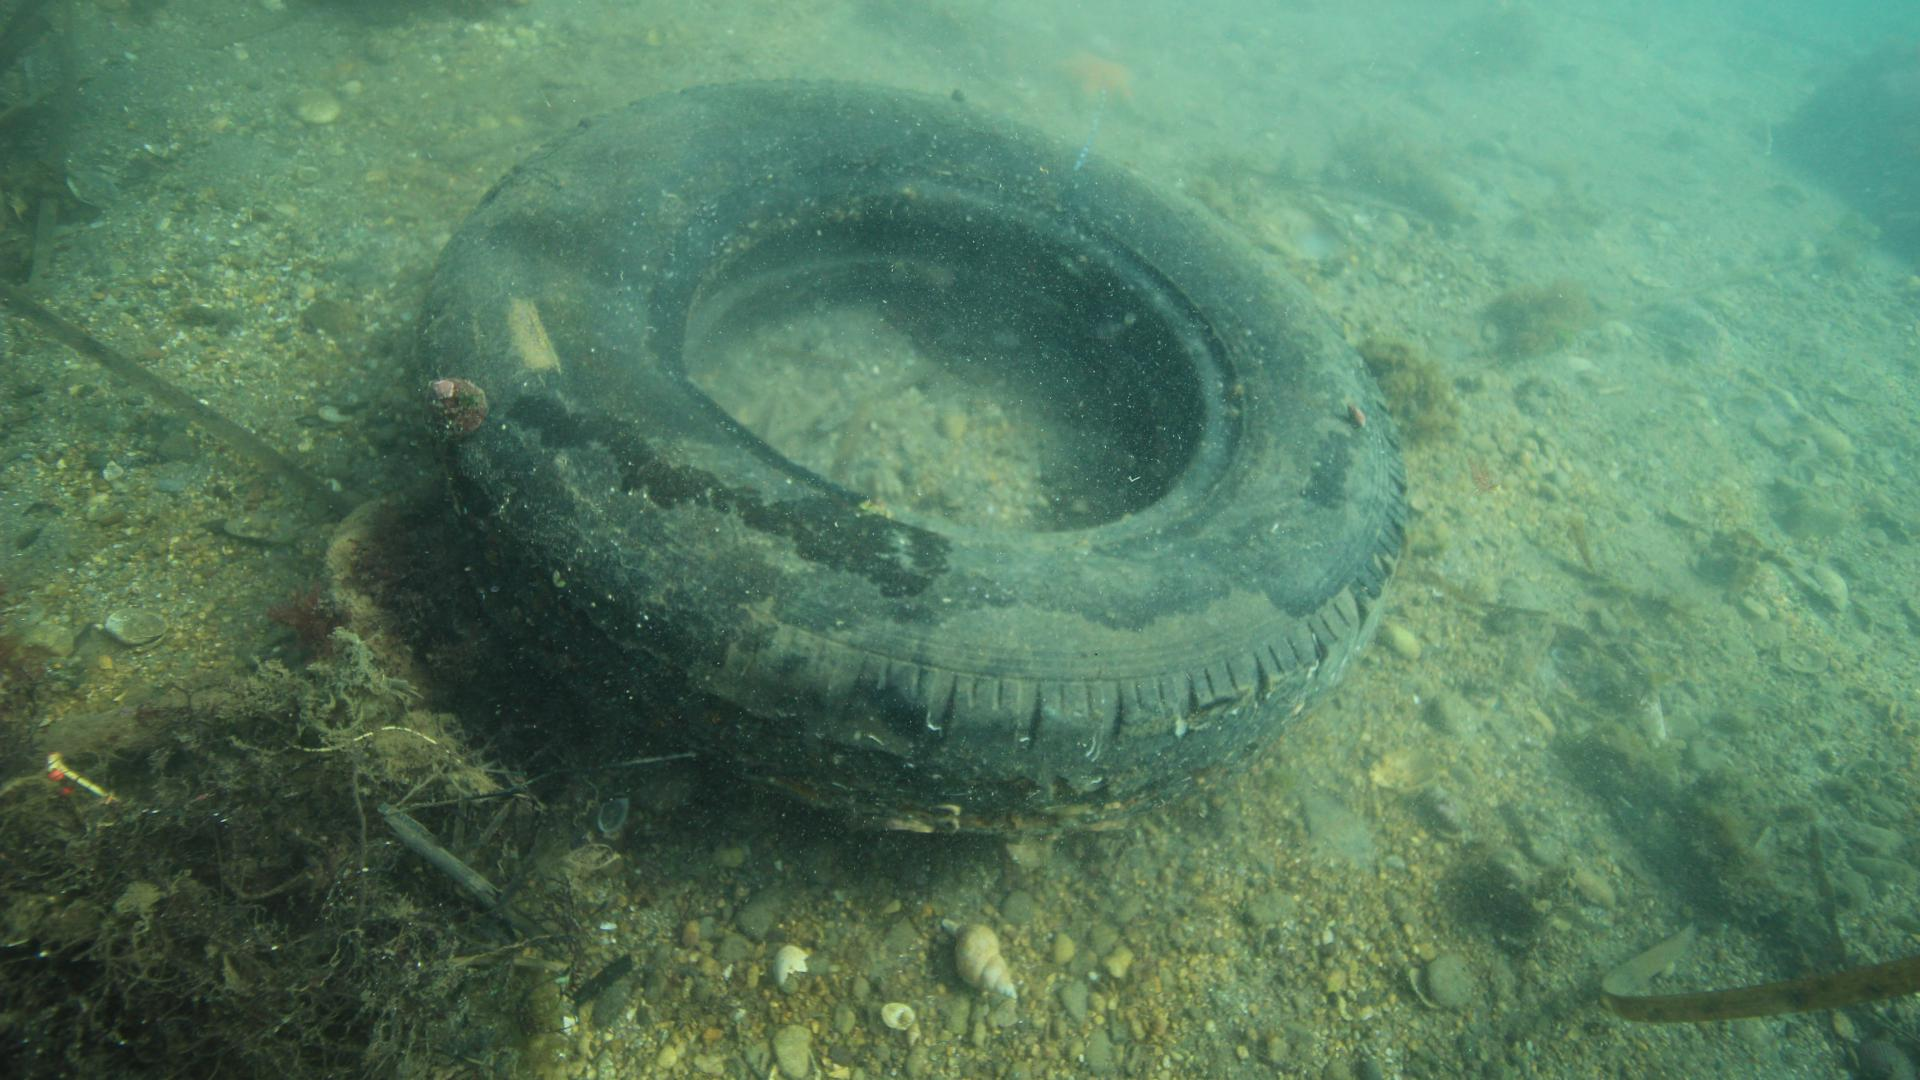tire: (409, 74, 1414, 824)
